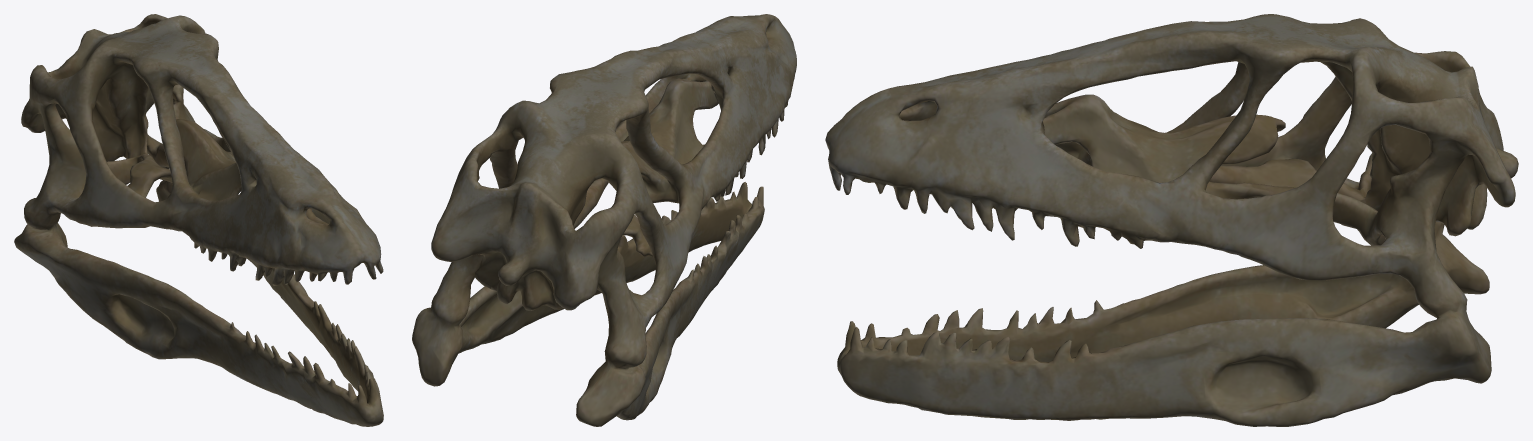
Rendered from dinosaur_skull.glb.
The picture shows the model from 3 angles, left to right: view 1: azimuth 30°, elevation 25°; view 2: azimuth 150°, elevation 25°; view 3: azimuth 270°, elevation 25°; orthographic projection. The views are drawn at different scales.
Visible parts, largest first — view 1: SuperVoxels; view 2: SuperVoxels; view 3: SuperVoxels.
Boxes of the visible parts, bbox=[...] form: SuperVoxels: bbox=[14, 14, 383, 426]; SuperVoxels: bbox=[412, 14, 796, 426]; SuperVoxels: bbox=[825, 14, 1518, 426].
Size of the model in its own units: 436 by 596 by 990.
1 material, 1 textured.
